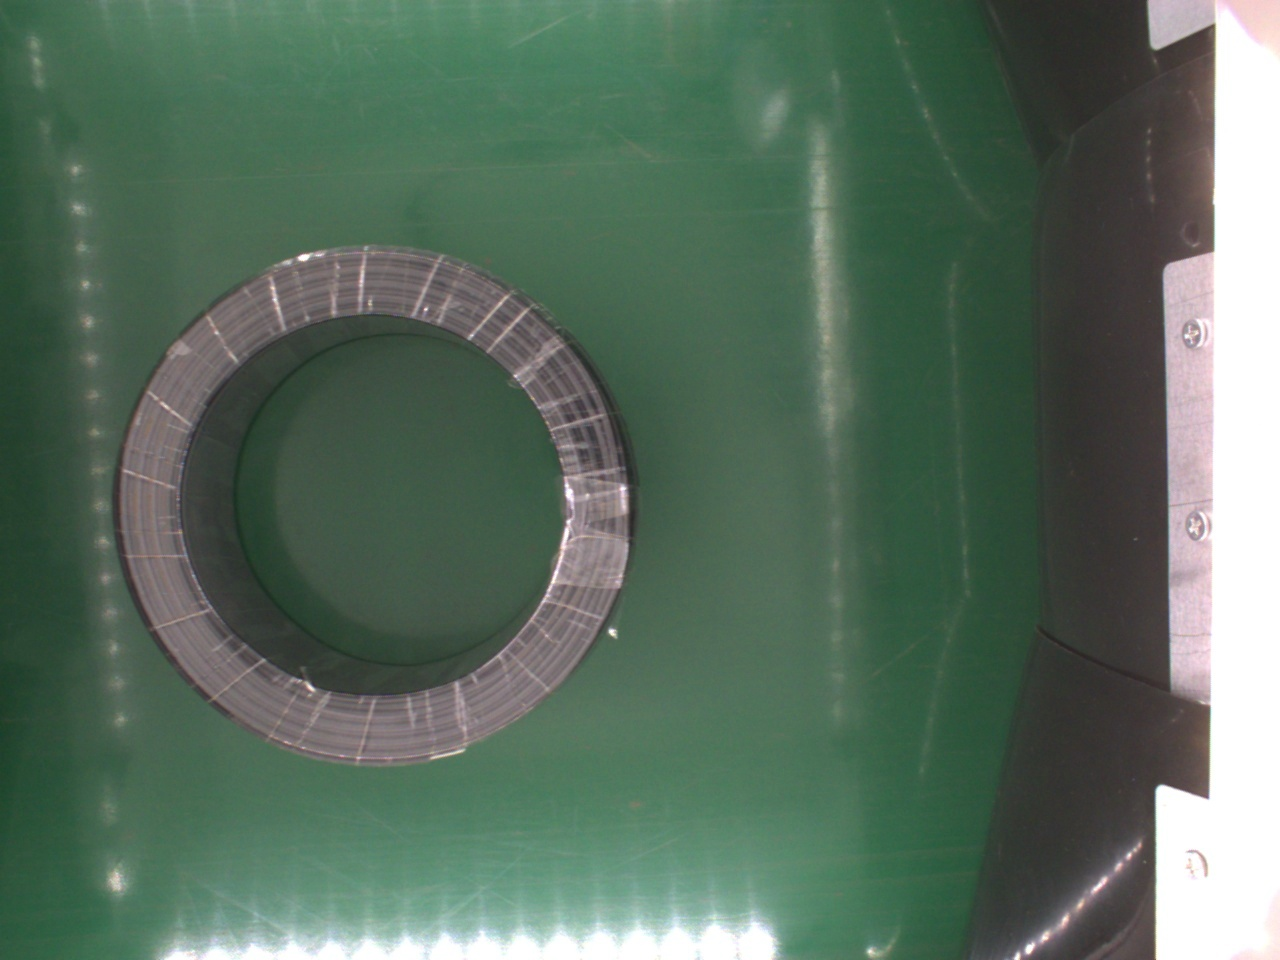black: (112, 246, 640, 768)
